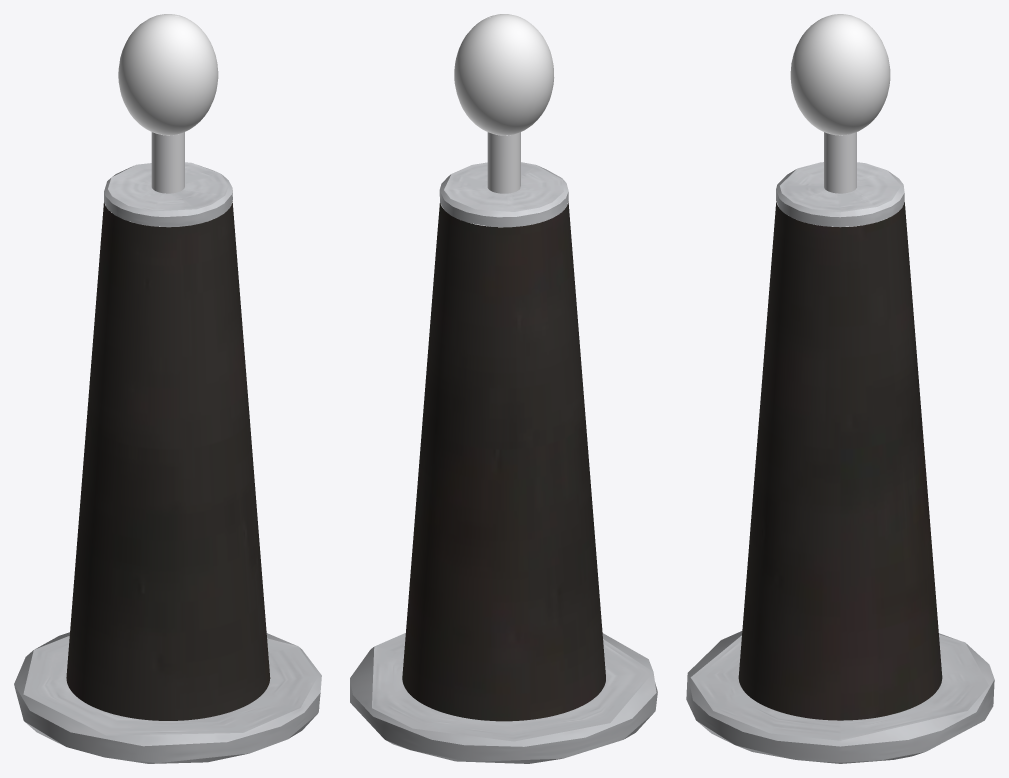
Rendered from ferro-orbis_queen_black.glb.
3 views of the same model, side by side, from view 1: azimuth 30°, elevation 25°; view 2: azimuth 150°, elevation 25°; view 3: azimuth 270°, elevation 25° (orthographic).
Visible parts, largest first — view 1: ferro-orbis_queen_black; view 2: ferro-orbis_queen_black; view 3: ferro-orbis_queen_black.
Part boxes in pixels (box(x1,y1,x2,y2)): ferro-orbis_queen_black: box(14, 14, 321, 763); ferro-orbis_queen_black: box(350, 14, 657, 763); ferro-orbis_queen_black: box(686, 14, 994, 763).
Bounding box in the file's own units: 0.036 × 0.088 × 0.036.
Materials: 5 (3 with a texture image).
